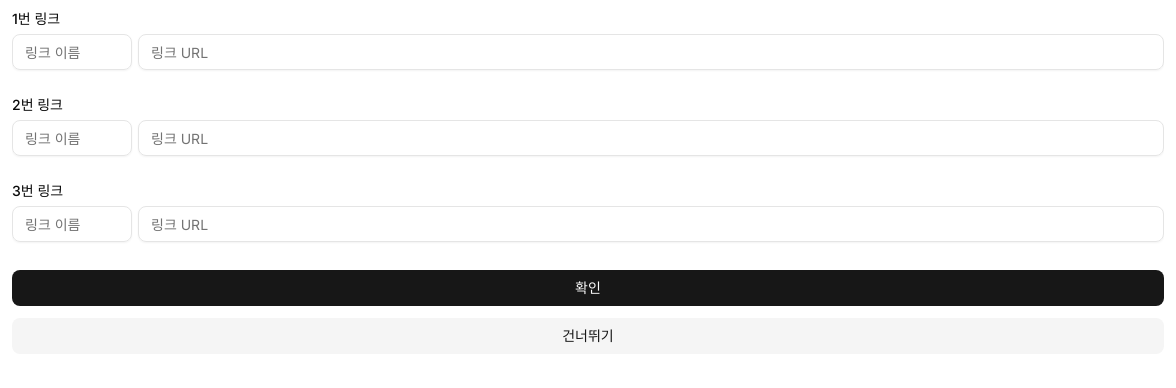
Test: RegisterStep3Form › 잘못된 URL 입력 시 에러 메시지를 표시한다
Type "not-a-valid-url" into the field with placeholder "링크 URL" below "1번 링크". click: (651, 52)
box: [138,34,1164,70]
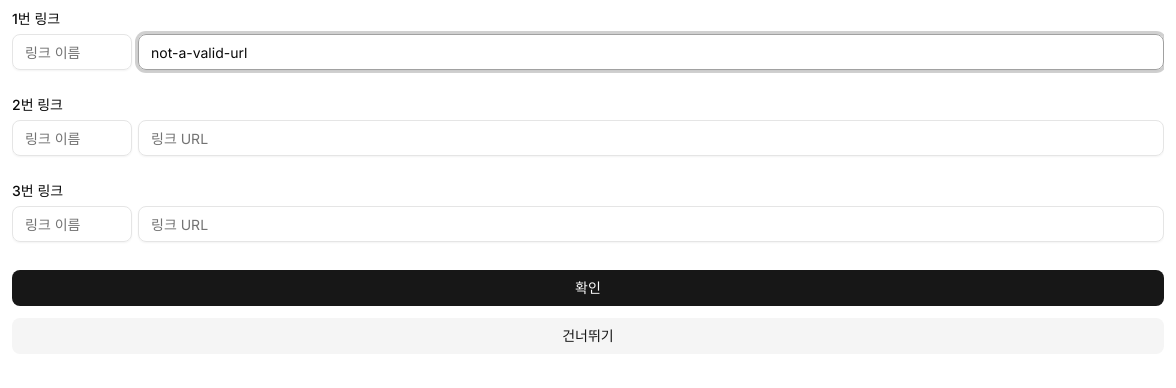
Click the button "확인". click: click(588, 288)
box: [12,270,1164,306]
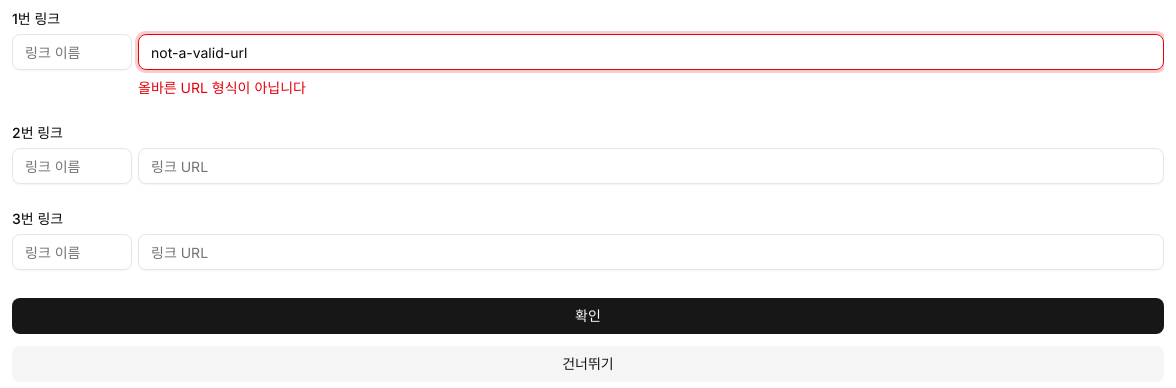
Now the text "올바른 URL 형식이 아닙니다" is shown, box [138,79,306,96]
